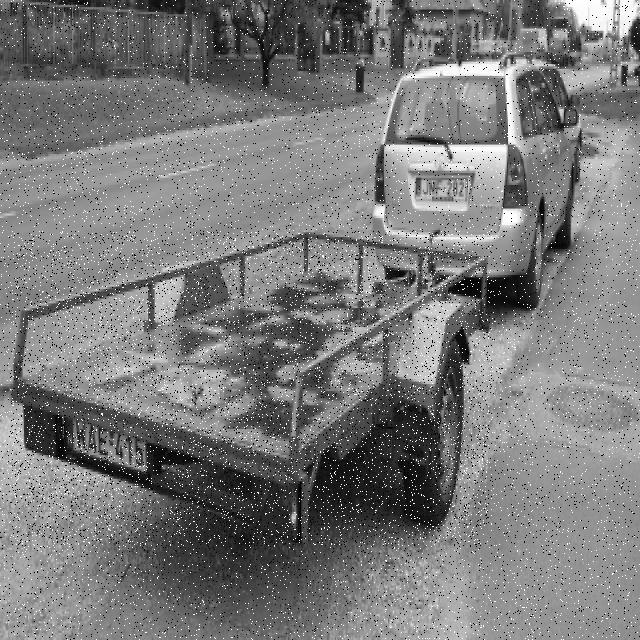Trailer: (11, 231, 492, 546)
